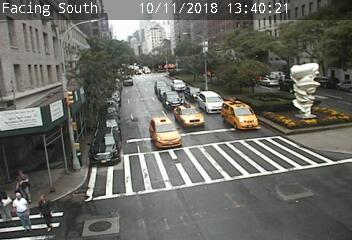car: (90, 127, 120, 165), (222, 101, 259, 131), (150, 117, 181, 149), (173, 104, 204, 127), (198, 91, 224, 115), (163, 91, 184, 112), (184, 87, 205, 102), (279, 79, 299, 93), (158, 87, 175, 101), (154, 81, 170, 95), (258, 77, 280, 87), (171, 79, 186, 92)
